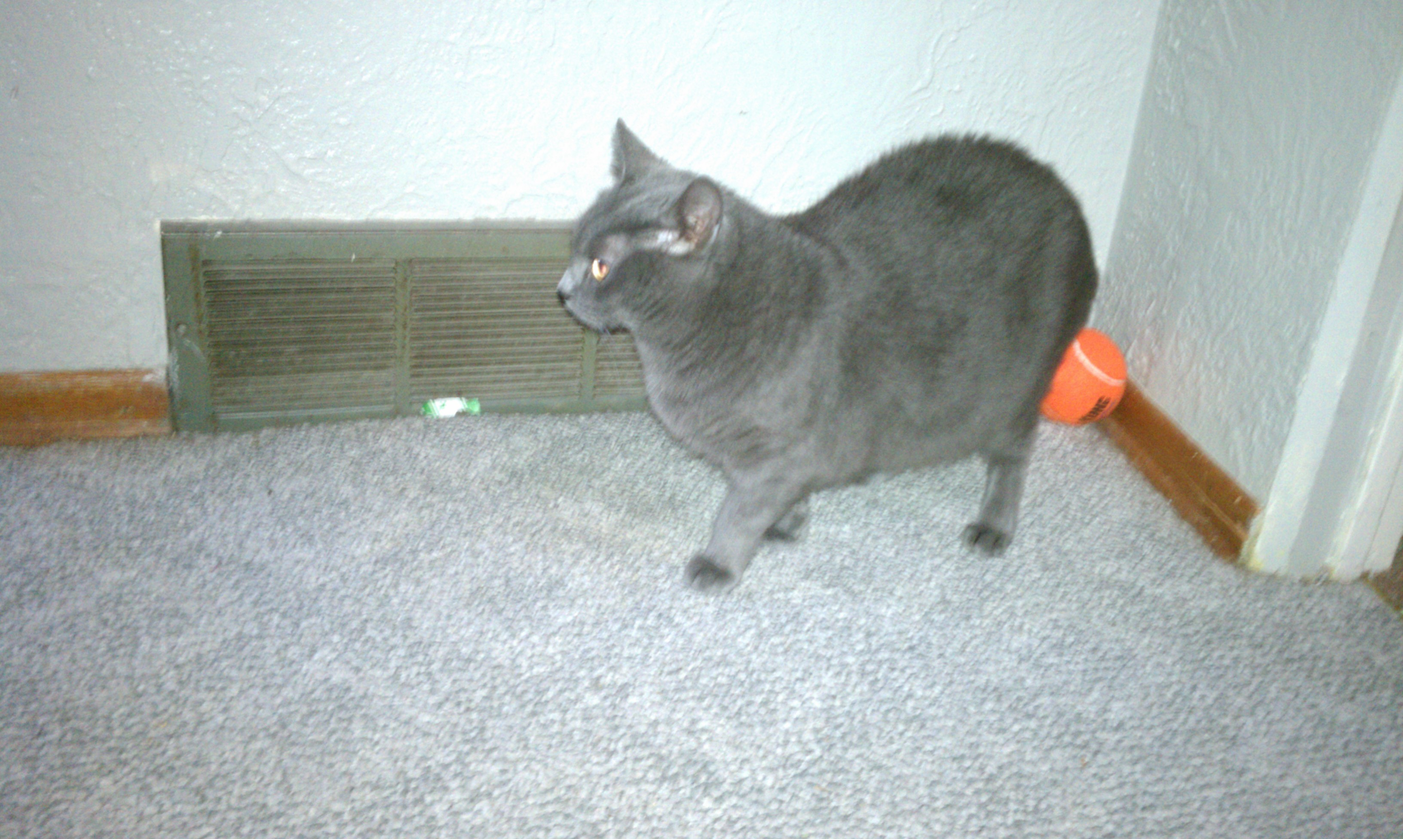cat: (554, 119, 1101, 593)
